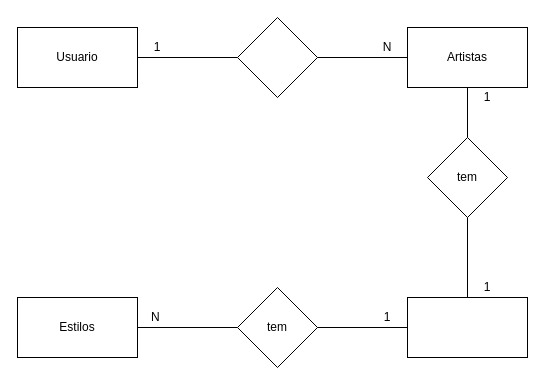
Image size: 545x385. Some labels were removed from this diagram. The centre of each missing label's shape, as x and y in pixels:
"Albuns" goes at pixel 467 327.
"escolhe" goes at pixel 277 57.
